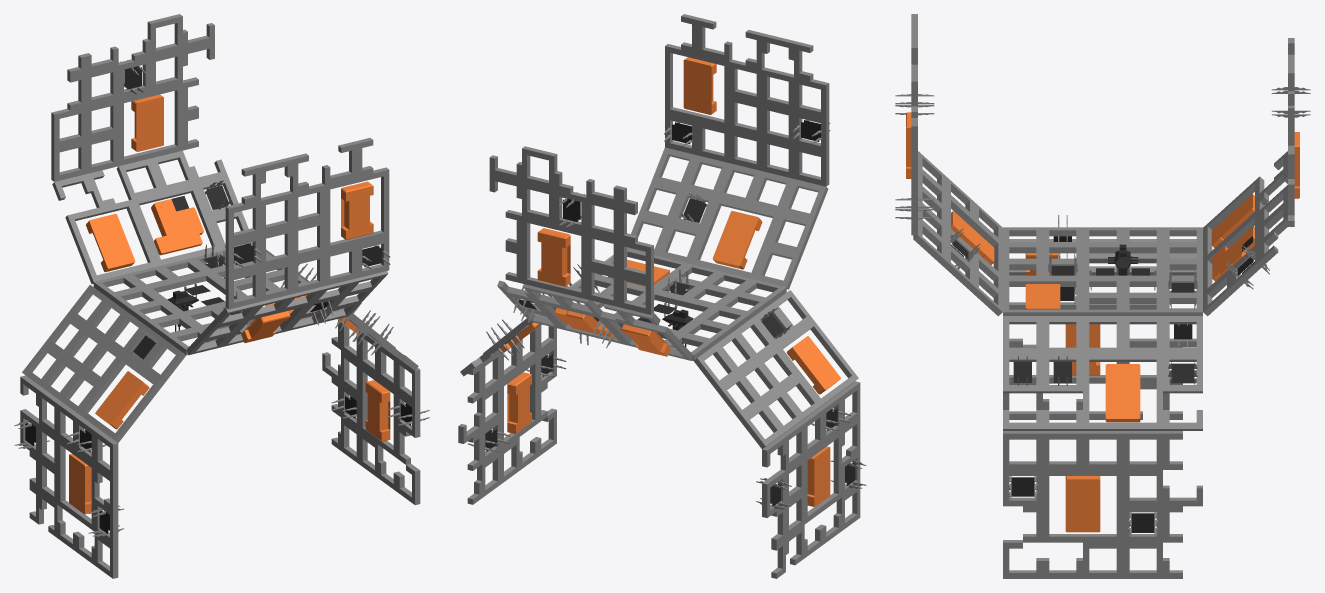
File: StarbaseAtlasProjectEmpireHQ.glb
3 views of the same model, side by side, from view 1: azimuth 30°, elevation 25°; view 2: azimuth 150°, elevation 25°; view 3: azimuth 270°, elevation 25° (orthographic). The views are drawn at different scales.
Visible parts, largest first — view 1: Block_Ship_Shop_Empire.001, Block_Ship_Hangars_Empire.002, Block_Ship_Hangars_Empire.005, Block_Ship_Hangars_Empire.003, Block_Ship_Hangars_Empire.006, Block_Ship_Hangars_Empire.007, Block_Ship_Hangars_Empire.009, Block_VIS_HQ.001, Block_Ship_Hangars_Empire.004, Quarter_Block_Towers.007, Quarter_Block_Towers.004, Quarter_Block_Towers.006 (+56 smaller); view 2: Block_Ship_Hangars_Empire.004, Block_Ship_Hangars_Empire.005, Block_Ship_Hangars_Empire.003, Block_Ship_Hangars_Empire.006, Block_Ship_Hangars_Empire.007, Block_Ship_Hangars_Empire.009, Block_Ship_Hangars_Empire.002, Block_Ship_Shop_Empire.001, Block_VIS_HQ.001, Quarter_Block_Towers.007, Quarter_Block_Towers.005, Quarter_Block_Towers.004 (+65 smaller); view 3: Block_Ship_Hangars_Empire.008, Block_Ship_Hangars_Empire.009, Block_Ship_Hangars_Empire.001, Block_VIS_HQ.001, Block_Ship_Hangars_Empire.002, Block_Ship_Hangars_Empire.004, Block_Ship_Shop_Empire.001, Quarter_Block_Towers.012, Quarter_Block_Towers.015, Quarter_Block_Towers.016, Quarter_Block_Towers.013, Quarter_Block_Towers.014 (+47 smaller).
Part boxes in pixels (box(x1,y1,x2,y2)): Block_Ship_Shop_Empire.001: box(132, 184, 221, 266); Block_Ship_Hangars_Empire.002: box(65, 199, 157, 283); Block_Ship_Hangars_Empire.005: box(325, 167, 389, 252); Block_Ship_Hangars_Empire.003: box(118, 83, 182, 165); Block_Ship_Hangars_Empire.006: box(78, 355, 163, 442); Block_Ship_Hangars_Empire.007: box(57, 437, 99, 531); Block_Ship_Hangars_Empire.009: box(359, 364, 396, 457); Block_VIS_HQ.001: box(144, 272, 242, 331); Block_Ship_Hangars_Empire.004: box(221, 303, 310, 347); Quarter_Block_Towers.007: box(224, 234, 261, 275); Quarter_Block_Towers.004: box(118, 57, 150, 98); Quarter_Block_Towers.006: box(357, 237, 390, 277); Block_Ship_Hangars_Empire.004: box(690, 196, 780, 279); Block_Ship_Hangars_Empire.005: box(665, 44, 729, 128); Block_Ship_Hangars_Empire.003: box(522, 216, 586, 298); Block_Ship_Hangars_Empire.006: box(776, 319, 858, 406); Block_Ship_Hangars_Empire.007: box(804, 430, 841, 524); Block_Ship_Hangars_Empire.009: box(501, 356, 538, 450); Block_Ship_Hangars_Empire.002: box(600, 311, 693, 360); Block_Ship_Shop_Empire.001: box(536, 301, 626, 348); Block_VIS_HQ.001: box(632, 291, 716, 347); Quarter_Block_Towers.007: box(793, 111, 830, 152); Quarter_Block_Towers.005: box(671, 189, 715, 229); Quarter_Block_Towers.004: box(554, 190, 586, 231); Block_Ship_Hangars_Empire.008: box(1083, 353, 1162, 430); Block_Ship_Hangars_Empire.009: box(1043, 470, 1122, 542); Block_Ship_Hangars_Empire.001: box(1003, 278, 1082, 315); Block_VIS_HQ.001: box(1083, 244, 1162, 290); Block_Ship_Hangars_Empire.002: box(1203, 176, 1264, 261); Block_Ship_Hangars_Empire.004: box(946, 193, 1002, 277); Block_Ship_Shop_Empire.001: box(1203, 210, 1259, 294); Quarter_Block_Towers.012: box(1163, 353, 1202, 393); Quarter_Block_Towers.015: box(1123, 506, 1162, 542); Quarter_Block_Towers.016: box(1003, 470, 1042, 506); Quarter_Block_Towers.013: box(1043, 353, 1082, 393); Quarter_Block_Towers.014: box(1003, 353, 1042, 393).
Size of the model in its own units: 1920 by 2295 by 1920.
